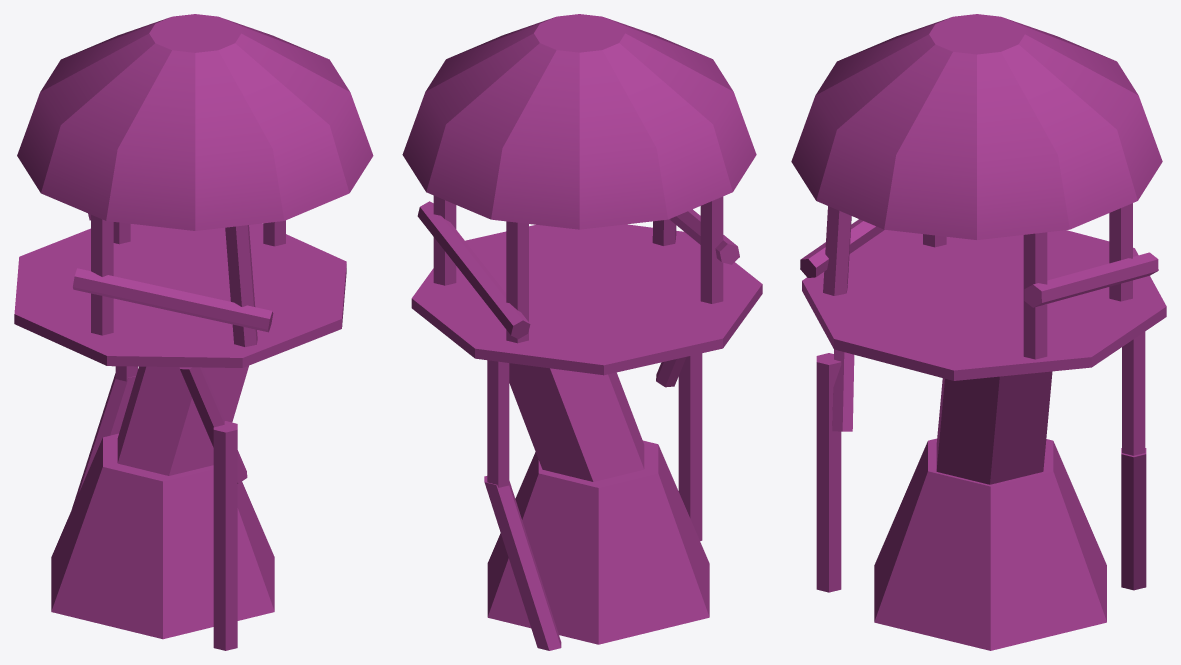
File: SM_Bld_Tree_House_02_Collision.fbx
3 views of the same model, side by side, from view 1: azimuth 30°, elevation 25°; view 2: azimuth 150°, elevation 25°; view 3: azimuth 270°, elevation 25° (orthographic). The views are drawn at different scales.
Visible parts, largest first — view 1: SM_Bld_Tree_House_02_Collision; view 2: SM_Bld_Tree_House_02_Collision; view 3: SM_Bld_Tree_House_02_Collision.
Part boxes in pixels (left/top/right/bottom): SM_Bld_Tree_House_02_Collision: left=14, top=14, right=373, bottom=650; SM_Bld_Tree_House_02_Collision: left=402, top=14, right=762, bottom=650; SM_Bld_Tree_House_02_Collision: left=791, top=14, right=1166, bottom=650.
Bounding box in the file's own units: 548 × 909 × 540.
